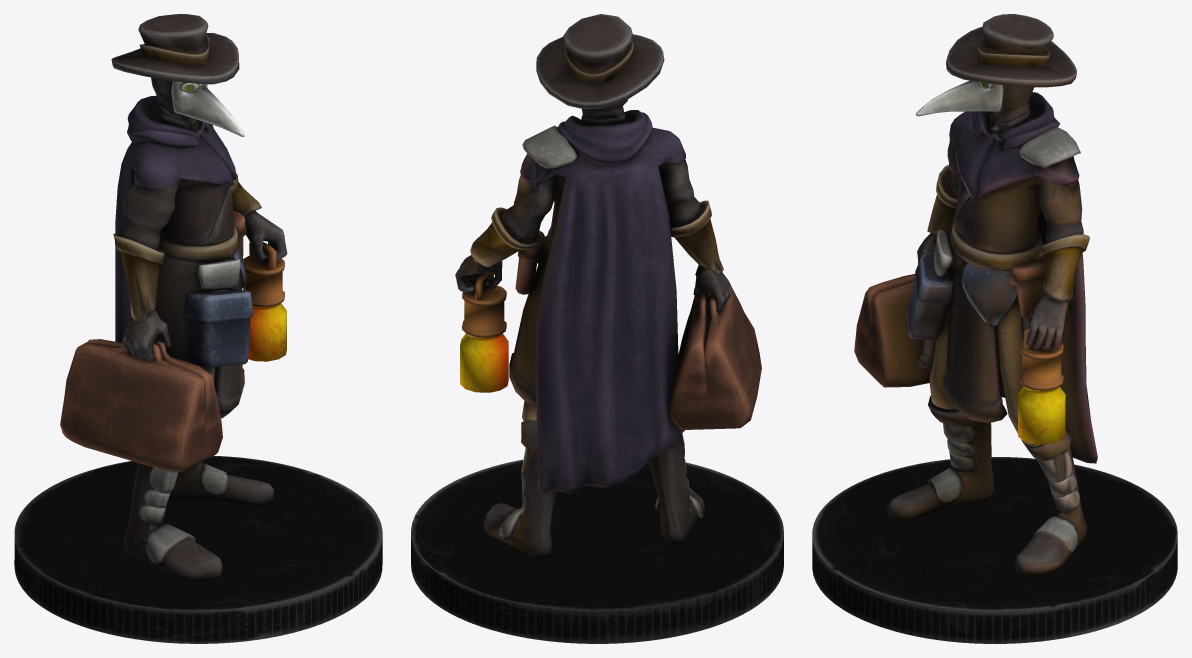
File: MZ4250 - Plague Doctor.glb
3 views of the same model, side by side, from view 1: azimuth 30°, elevation 25°; view 2: azimuth 150°, elevation 25°; view 3: azimuth 270°, elevation 25° (orthographic). The views are drawn at different scales.
Visible parts, largest first — view 1: base_low.001, body_low.001, bag_low.001, hat_low.001, lamp_low.001; view 2: body_low.001, base_low.001, bag_low.001, hat_low.001, lamp_low.001; view 3: body_low.001, base_low.001, hat_low.001, bag_low.001, lamp_low.001.
Boxes of the visible parts, x1,y1,x2,y2 form: base_low.001: [14, 455, 382, 643]; body_low.001: [113, 77, 287, 581]; bag_low.001: [60, 339, 222, 471]; hat_low.001: [111, 14, 239, 84]; lamp_low.001: [243, 242, 286, 361]; body_low.001: [455, 99, 731, 558]; base_low.001: [411, 459, 783, 643]; bag_low.001: [669, 286, 761, 429]; hat_low.001: [536, 14, 664, 109]; lamp_low.001: [460, 272, 508, 392]; body_low.001: [887, 80, 1097, 575]; base_low.001: [812, 457, 1177, 643]; hat_low.001: [946, 14, 1076, 87]; bag_low.001: [854, 274, 930, 387]; lamp_low.001: [1018, 328, 1065, 444].
Bounding box in the file's own units: 1.94 × 3.15 × 1.94.
1 material, 1 textured.
